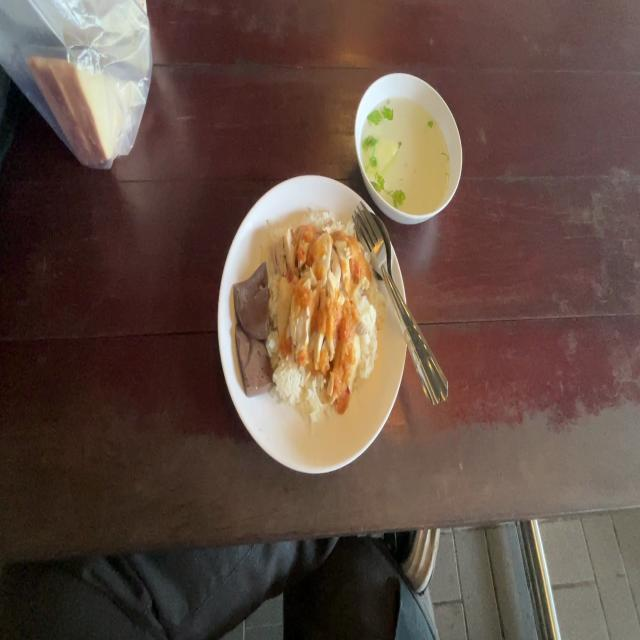boiled_chicken: (278, 229, 353, 374)
boiled_chicken_blood_jelly: (234, 318, 275, 402), (229, 261, 270, 339)
chicken_rice: (230, 215, 380, 418)
